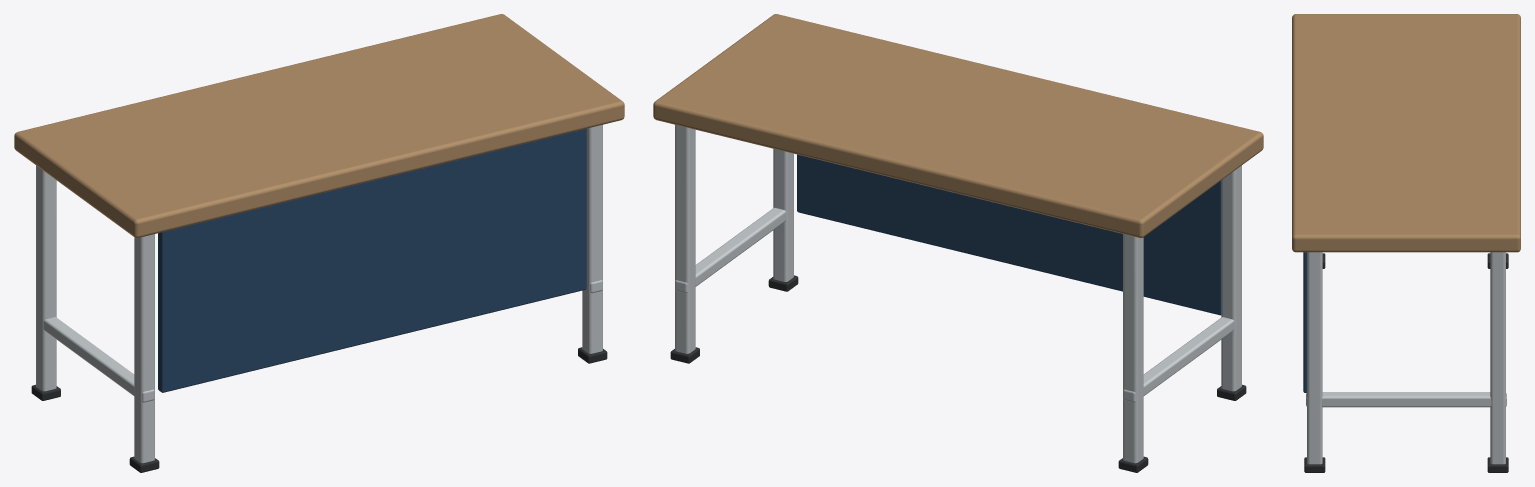
Rendered from rowing-boathouse-and-regatta-course-race-registration--04924fb7__32158.glb.
The picture shows the model from 3 angles, left to right: view 1: azimuth 30°, elevation 25°; view 2: azimuth 150°, elevation 25°; view 3: azimuth 270°, elevation 25°; orthographic projection. The views are drawn at different scales.
Parts seen in each view (by area): view 1: race-registration-desk; view 2: race-registration-desk; view 3: race-registration-desk.
Boxes of the visible parts, box(x1,y1,x2,y2) form: race-registration-desk: box(14, 14, 624, 472); race-registration-desk: box(653, 14, 1263, 472); race-registration-desk: box(1292, 14, 1520, 472).
Bounding box in the file's own units: 1.5 × 0.76 × 0.6499.
